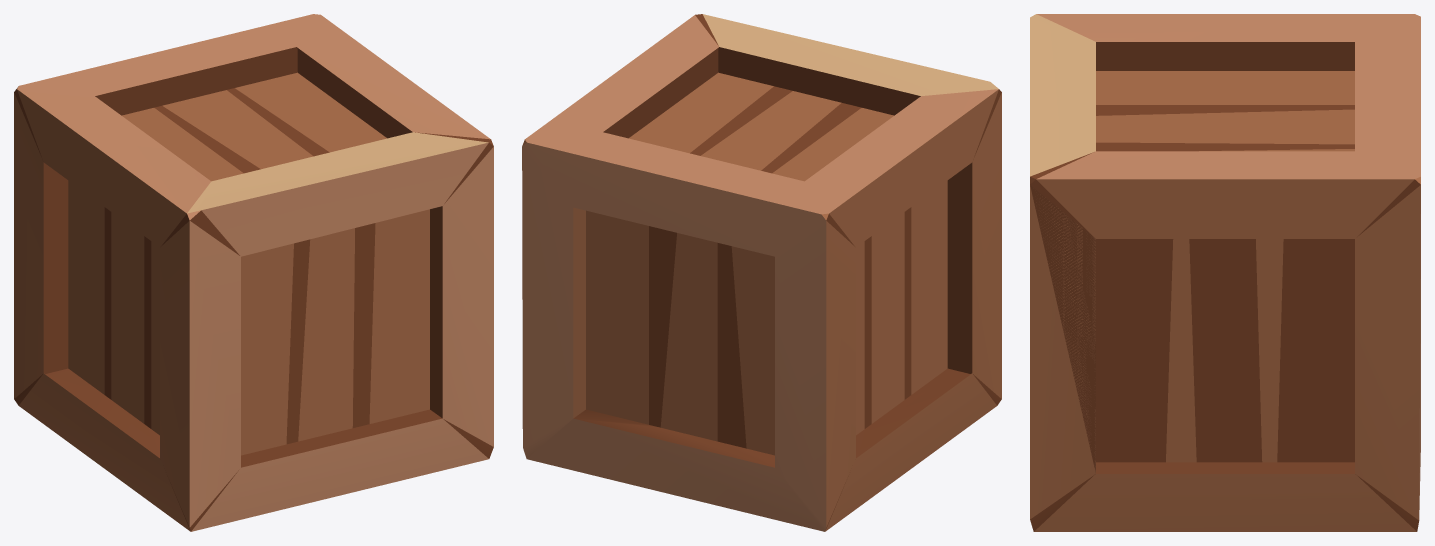
File: thunggo02.fbx
The picture shows the model from 3 angles, left to right: view 1: azimuth 30°, elevation 25°; view 2: azimuth 150°, elevation 25°; view 3: azimuth 270°, elevation 25°; orthographic projection. The views are drawn at different scales.
Visible parts, largest first — view 1: thunggo02; view 2: thunggo02; view 3: thunggo02.
Boxes of the visible parts, left/top/right/bottom form: thunggo02: left=14, top=14, right=493, bottom=531; thunggo02: left=522, top=14, right=1001, bottom=531; thunggo02: left=1030, top=14, right=1420, bottom=531.
Size of the model in its own units: 169 by 171 by 169.
